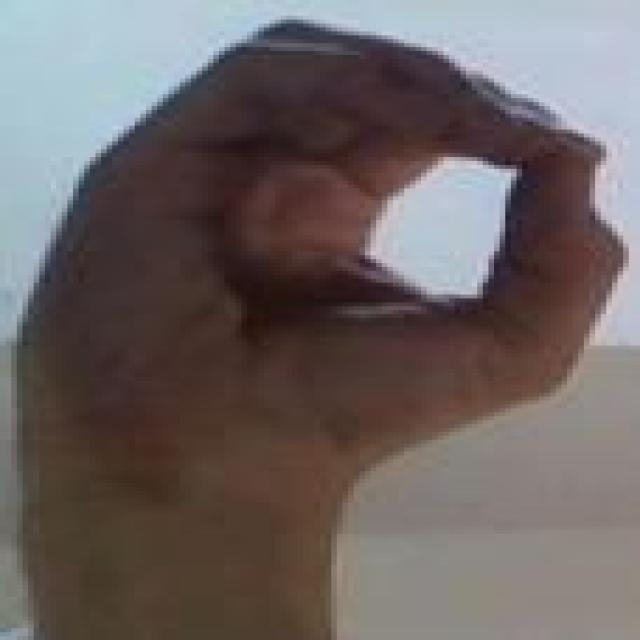O: (0, 0, 640, 467)
